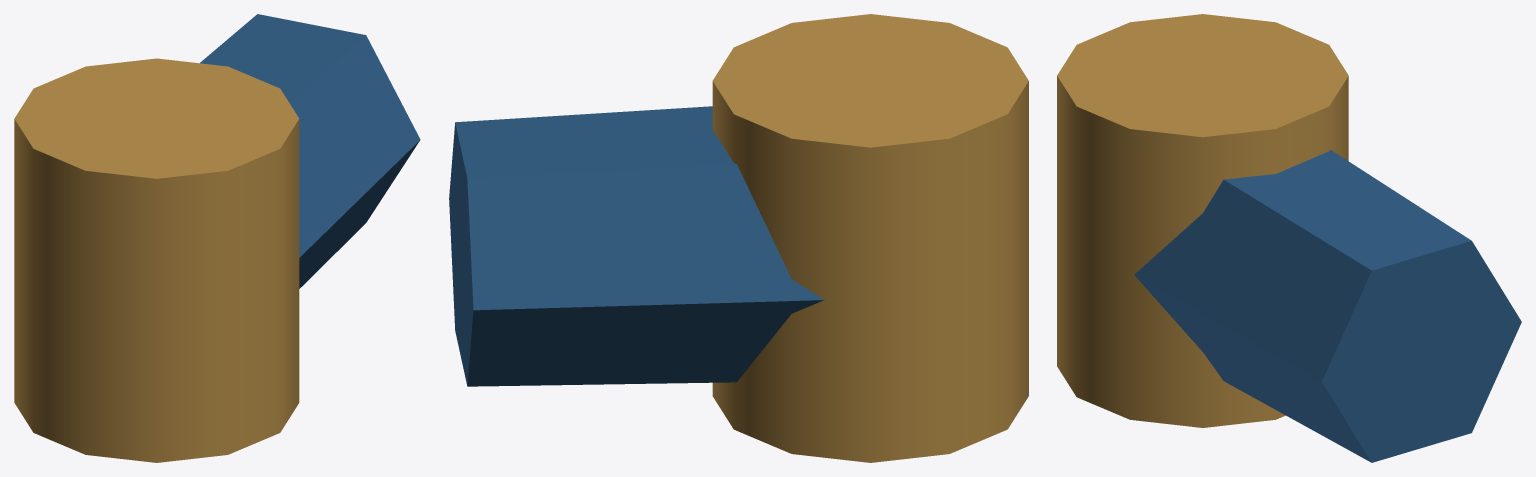
File: rm2_leg_rl_coxa.obj
3 views of the same model, side by side, from view 1: azimuth 30°, elevation 25°; view 2: azimuth 150°, elevation 25°; view 3: azimuth 270°, elevation 25° (orthographic). The views are drawn at different scales.
Parts seen in each view (by area): view 1: rm2_leg_rl_coxa; view 2: rm2_leg_rl_coxa; view 3: rm2_leg_rl_coxa.
Part boxes in pixels (x1=…): rm2_leg_rl_coxa: x1=14, y1=14, x2=420, y2=462; rm2_leg_rl_coxa: x1=449, y1=14, x2=1028, y2=462; rm2_leg_rl_coxa: x1=1057, y1=14, x2=1521, y2=462.
Bounding box in the file's own units: 0.1804 × 0.11 × 0.1593.
